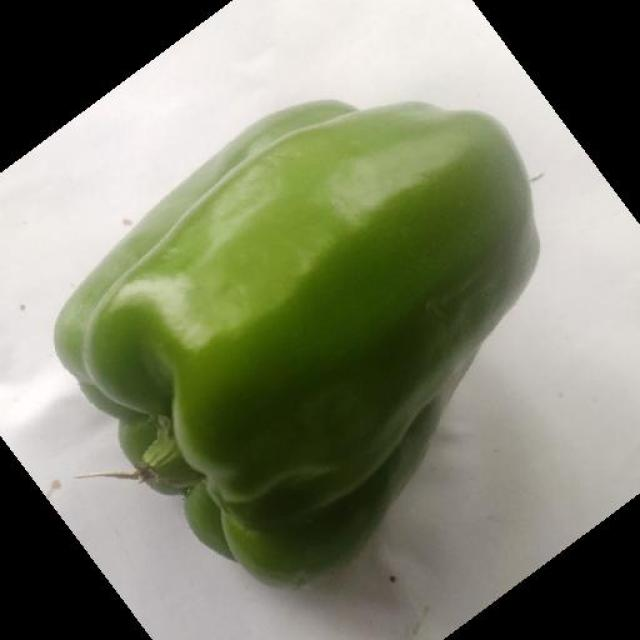Fresh_Capsicum: (59, 140, 544, 493)
